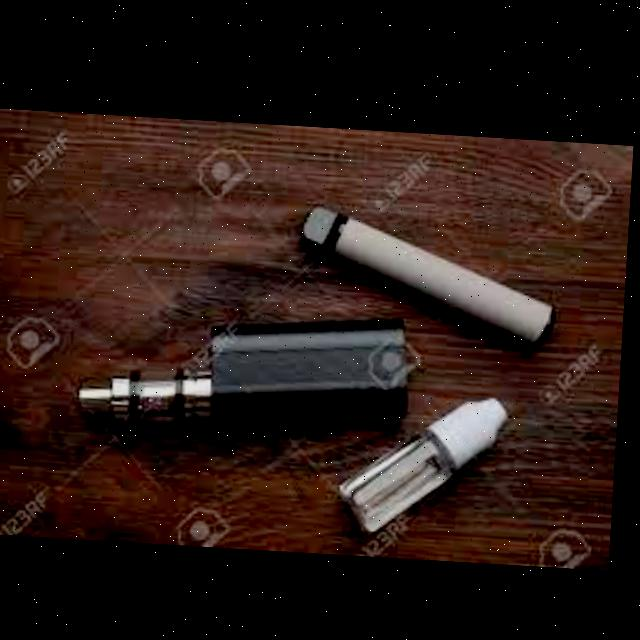vape: (80, 293, 414, 437), (298, 198, 565, 343)
